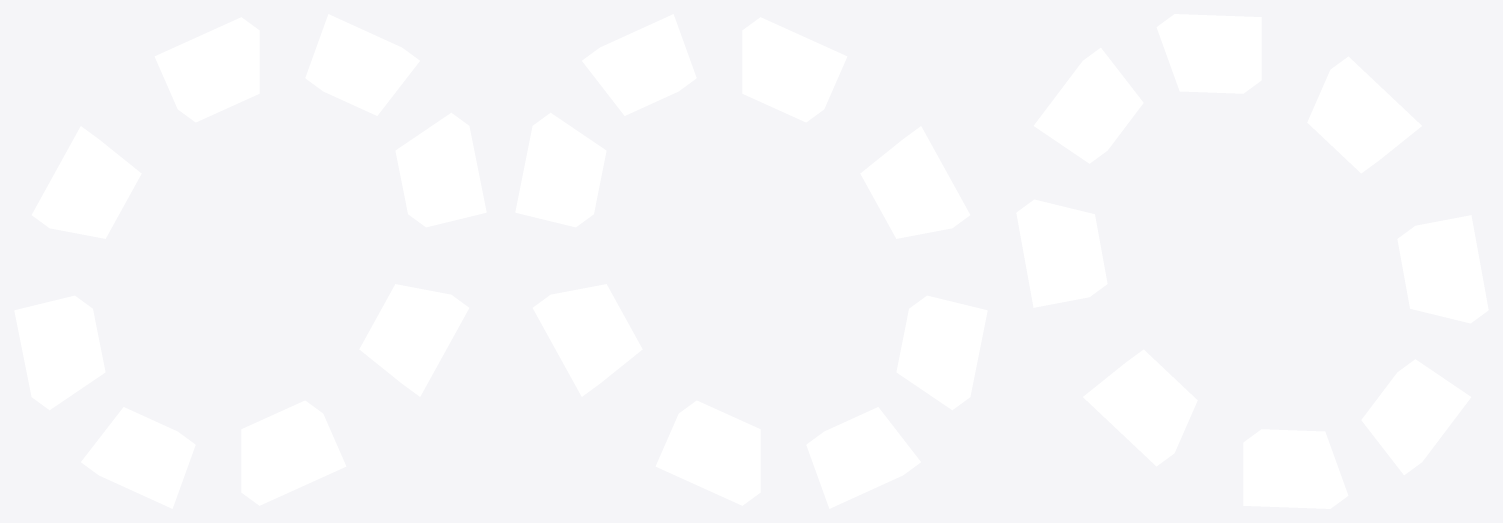
Rendered from loading.glb.
The picture shows the model from 3 angles, left to right: view 1: azimuth 30°, elevation 25°; view 2: azimuth 150°, elevation 25°; view 3: azimuth 330°, elevation 25°; orthographic projection.
Visible parts, largest first — view 1: Circle; view 2: Circle; view 3: Circle.
Part boxes in pixels (x1=…): Circle: x1=14, y1=14, x2=486, y2=508; Circle: x1=515, y1=14, x2=987, y2=508; Circle: x1=1016, y1=14, x2=1488, y2=508.
Size of the model in its own units: 0.2241 by 0.2241 by 0.0154.
1 material, 1 textured.
